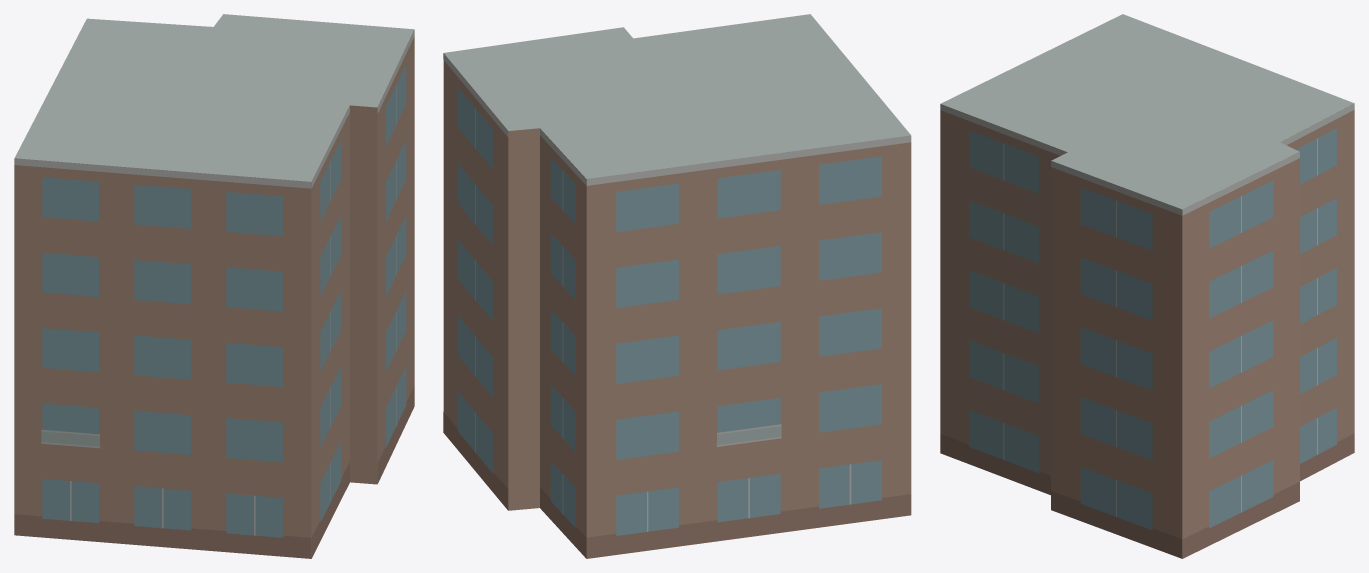
File: survey-upis-32850555.glb
The picture shows the model from 3 angles, left to right: view 1: azimuth 30°, elevation 25°; view 2: azimuth 150°, elevation 25°; view 3: azimuth 270°, elevation 25°; orthographic projection. The views are drawn at different scales.
Parts seen in each view (by area): view 1: survey-upis-32850555.tmp; view 2: survey-upis-32850555.tmp; view 3: survey-upis-32850555.tmp.
Boxes of the visible parts, x1,y1,x2,y2 form: survey-upis-32850555.tmp: [14, 14, 414, 558]; survey-upis-32850555.tmp: [443, 14, 911, 558]; survey-upis-32850555.tmp: [940, 14, 1354, 558].
Bounding box in the file's own units: 16.33 × 13.6 × 14.62.
